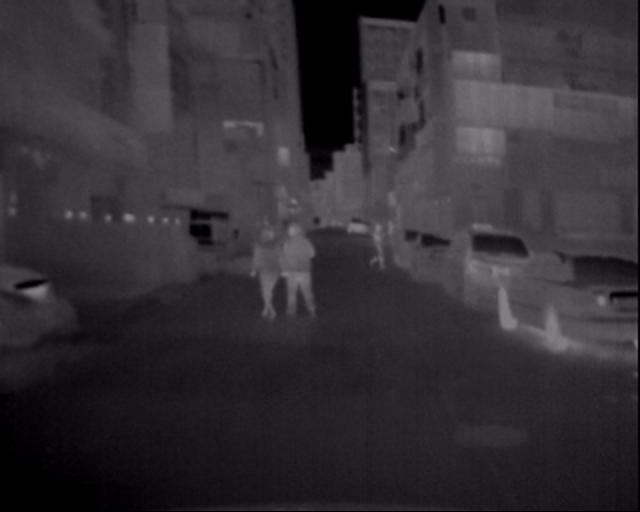person: (241, 199, 288, 335), (279, 203, 323, 337), (366, 212, 395, 264)
